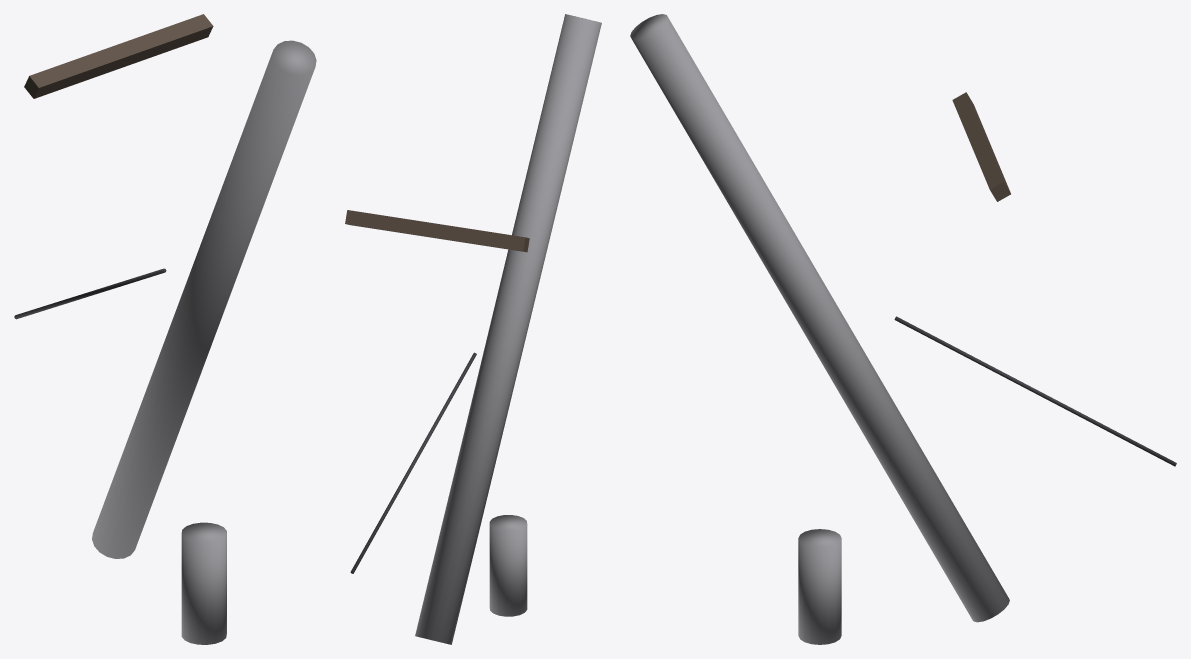
File: prop_denchu_taore.glb
3 views of the same model, side by side, from view 1: azimuth 30°, elevation 25°; view 2: azimuth 150°, elevation 25°; view 3: azimuth 270°, elevation 25° (orthographic). The views are drawn at different scales.
Parts seen in each view (by area): view 1: denchu_taore; view 2: denchu_taore; view 3: denchu_taore.
Part boxes in pixels (x1,y1,x2,y2): denchu_taore: [14, 14, 316, 644]; denchu_taore: [345, 14, 601, 644]; denchu_taore: [630, 14, 1176, 644].
Size of the model in its own units: 1.6 by 5.06 by 4.06.
